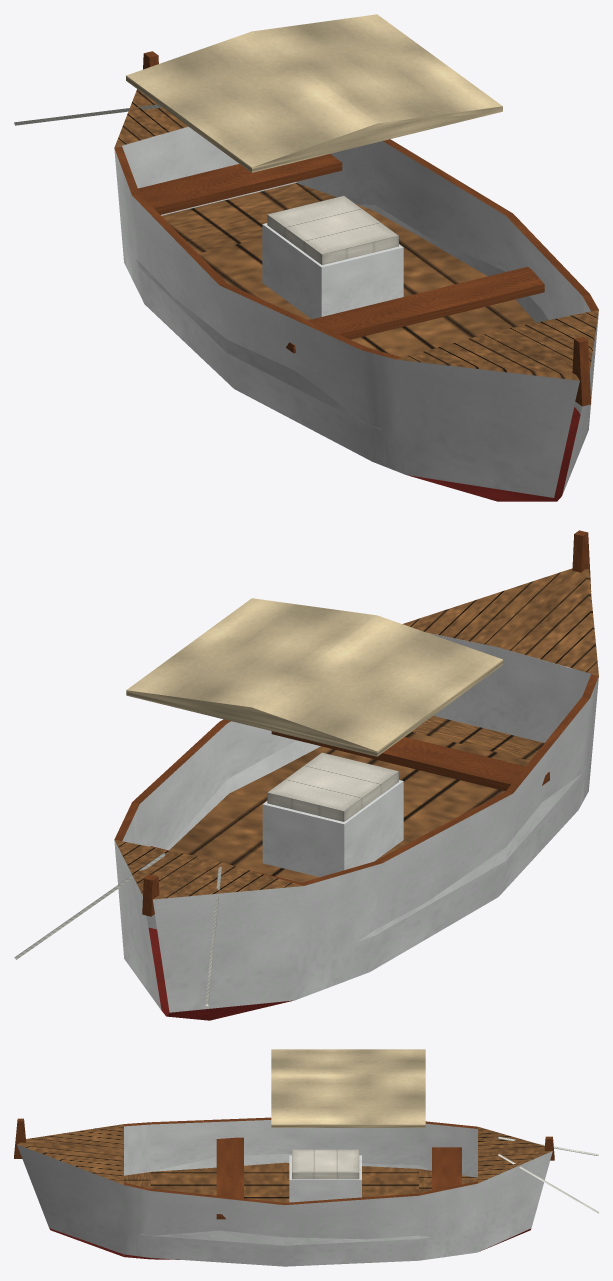
Rendered from SM_Morin_Barca_Gozzo_FasciaVerde_LOD2.fbx.
3 renders of one model, top to bottom at view 1: azimuth 30°, elevation 25°; view 2: azimuth 150°, elevation 25°; view 3: azimuth 270°, elevation 25°, orthographic. The views are drawn at different scales.
Visible parts, largest first — view 1: SM_Morin_Barca_Gozzo_FasciaVerde_LOD2; view 2: SM_Morin_Barca_Gozzo_FasciaVerde_LOD2; view 3: SM_Morin_Barca_Gozzo_FasciaVerde_LOD2.
Part boxes in pixels (x1,y1,x2,y2): SM_Morin_Barca_Gozzo_FasciaVerde_LOD2: (14,14,598,501); SM_Morin_Barca_Gozzo_FasciaVerde_LOD2: (14,530,598,1020); SM_Morin_Barca_Gozzo_FasciaVerde_LOD2: (14,1049,598,1266).
Bounding box in the file's own units: 229 × 644 × 222.
Materials: 1 (1 with a texture image).
